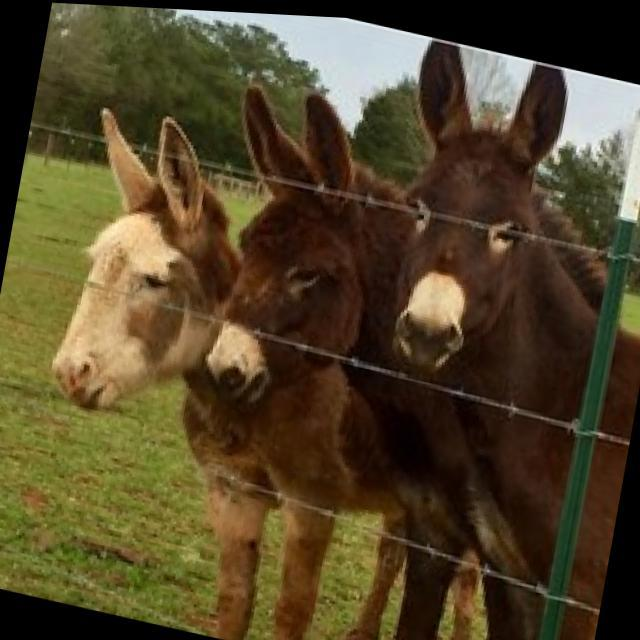Donkey: (2, 64, 503, 640), (141, 59, 580, 640), (285, 20, 640, 640)
